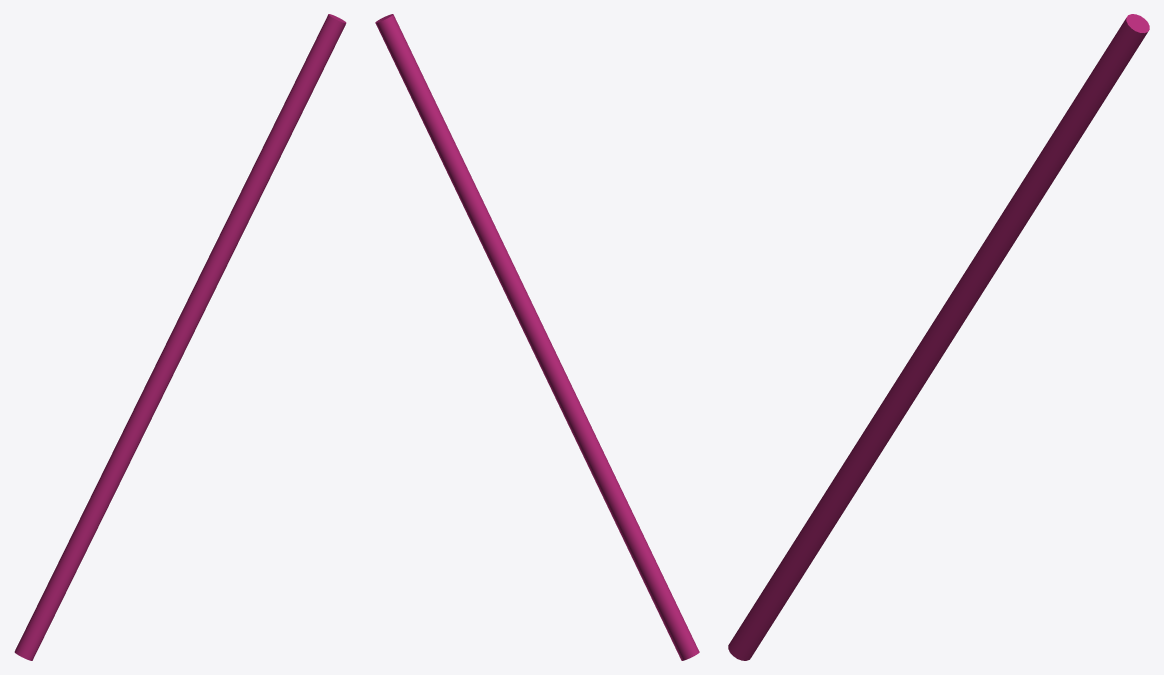
Rendered from handlepole.dae.
3 renders of one model, left to right at view 1: azimuth 30°, elevation 25°; view 2: azimuth 150°, elevation 25°; view 3: azimuth 330°, elevation 25°, orthographic. The views are drawn at different scales.
Visible parts, largest first — view 1: beam6; view 2: beam6; view 3: beam6.
Part boxes in pixels (box(x1,y1,x2,y2)): beam6: box(14, 14, 346, 660); beam6: box(375, 14, 699, 660); beam6: box(728, 14, 1149, 660).
Bounding box in the file's own units: 10.64 × 17.86 × 0.7388.
